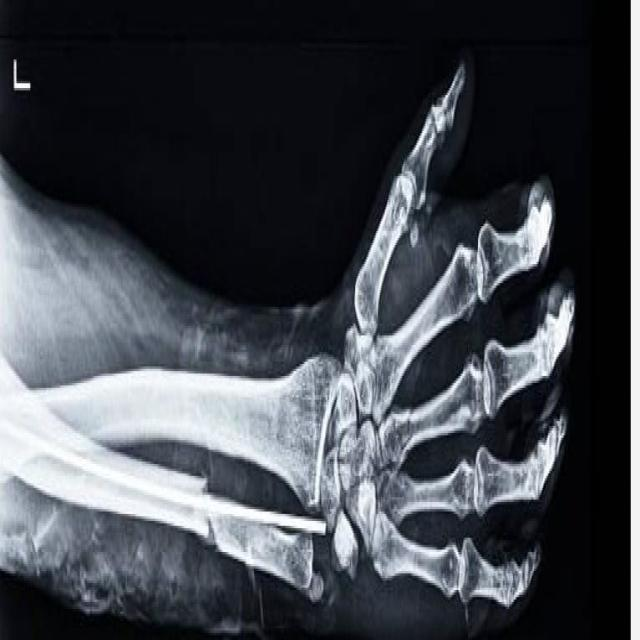bone: (196, 456, 222, 568)
